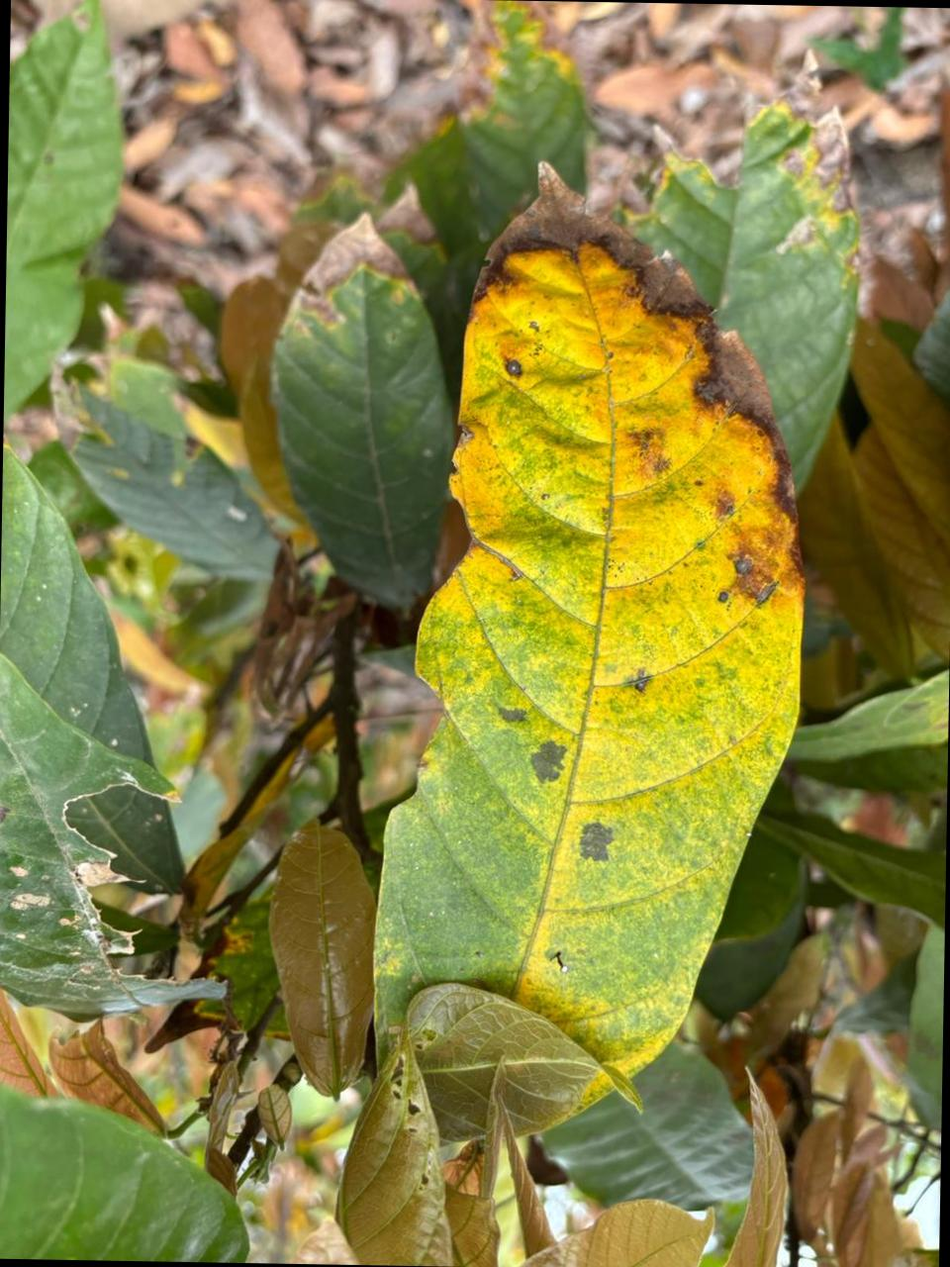Fosforo: (375, 169, 804, 1073)
